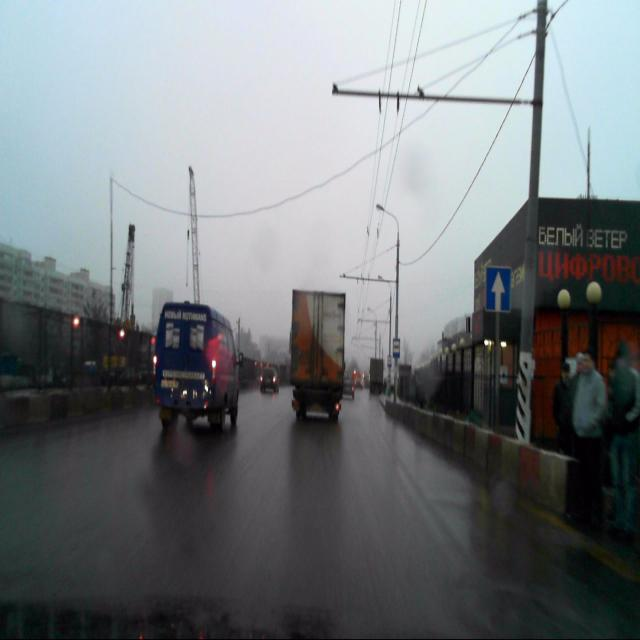object: (496, 316, 500, 436)
road sign: (485, 265, 511, 312)
